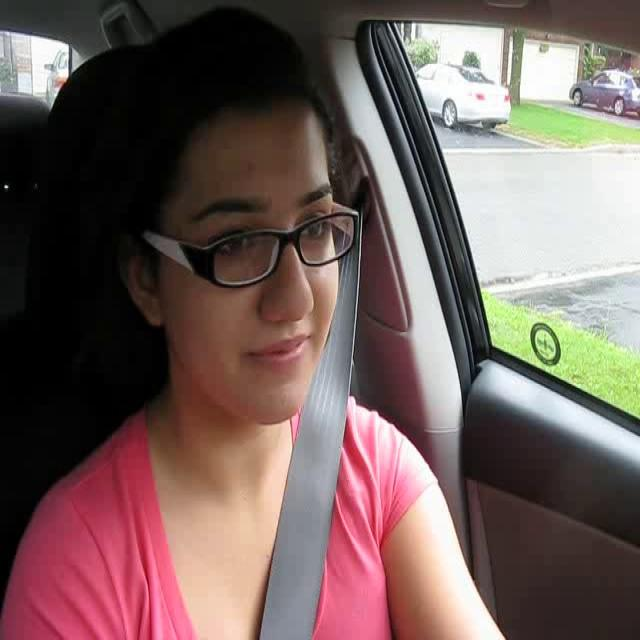close: (238, 329, 312, 372)
